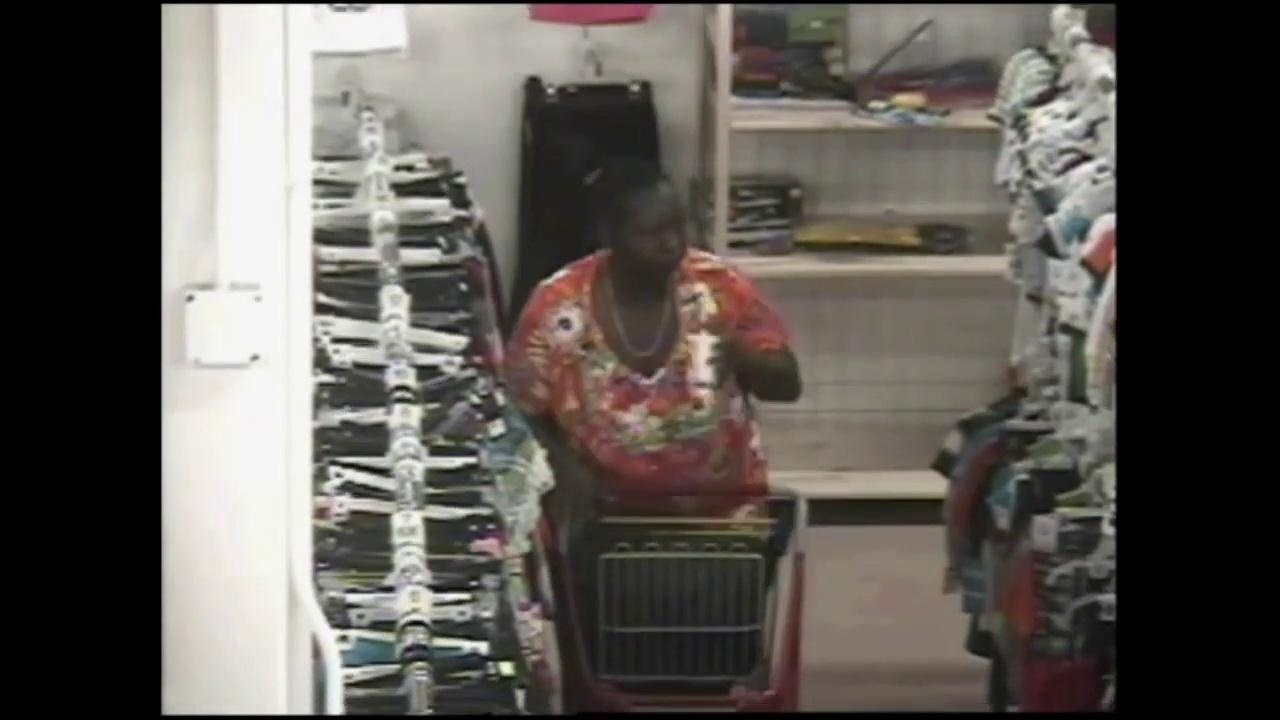Product: (652, 267, 742, 393)
Product-Picked: (495, 158, 875, 612)
Shopping-Cart: (541, 528, 795, 719)
